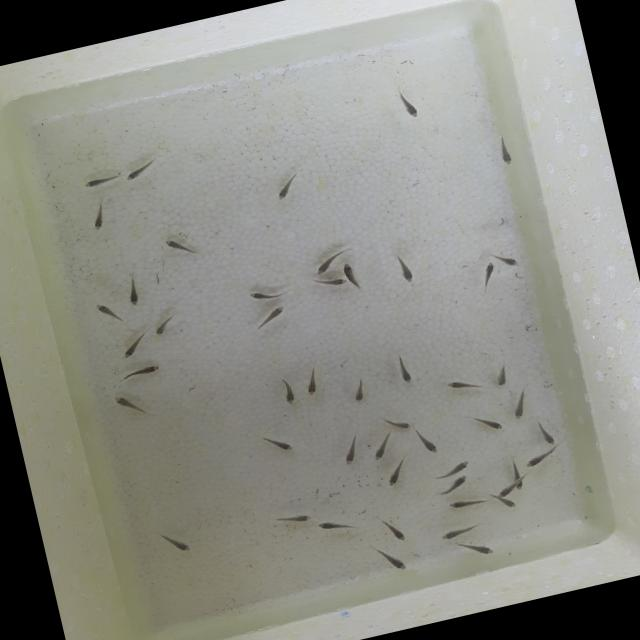fingerling: (108, 358, 166, 386), (452, 530, 496, 562), (392, 88, 426, 125), (272, 170, 310, 202), (114, 329, 150, 362), (162, 232, 202, 261), (158, 526, 194, 558), (112, 388, 147, 419), (270, 508, 318, 530), (334, 434, 365, 468), (381, 514, 412, 548), (119, 157, 159, 183), (298, 362, 326, 399), (443, 491, 492, 512), (392, 249, 419, 286), (414, 426, 444, 459), (518, 446, 557, 471), (247, 282, 291, 304), (120, 270, 144, 310), (310, 513, 348, 537), (252, 304, 288, 329), (85, 200, 112, 233), (438, 456, 476, 479), (90, 297, 121, 325), (390, 354, 417, 386), (442, 374, 478, 397), (264, 431, 300, 454), (507, 388, 531, 422), (382, 547, 410, 575), (313, 272, 348, 294), (277, 376, 301, 408), (349, 372, 373, 404), (474, 410, 506, 434), (496, 132, 516, 170), (78, 172, 120, 190), (380, 463, 409, 488), (445, 468, 475, 492), (507, 454, 525, 494), (436, 524, 476, 542), (149, 312, 175, 339), (368, 436, 394, 462), (536, 419, 559, 448), (310, 253, 338, 276), (493, 477, 522, 499), (491, 364, 516, 389), (386, 413, 414, 433), (478, 258, 499, 284), (340, 260, 361, 282), (500, 253, 524, 269), (500, 496, 520, 512)
